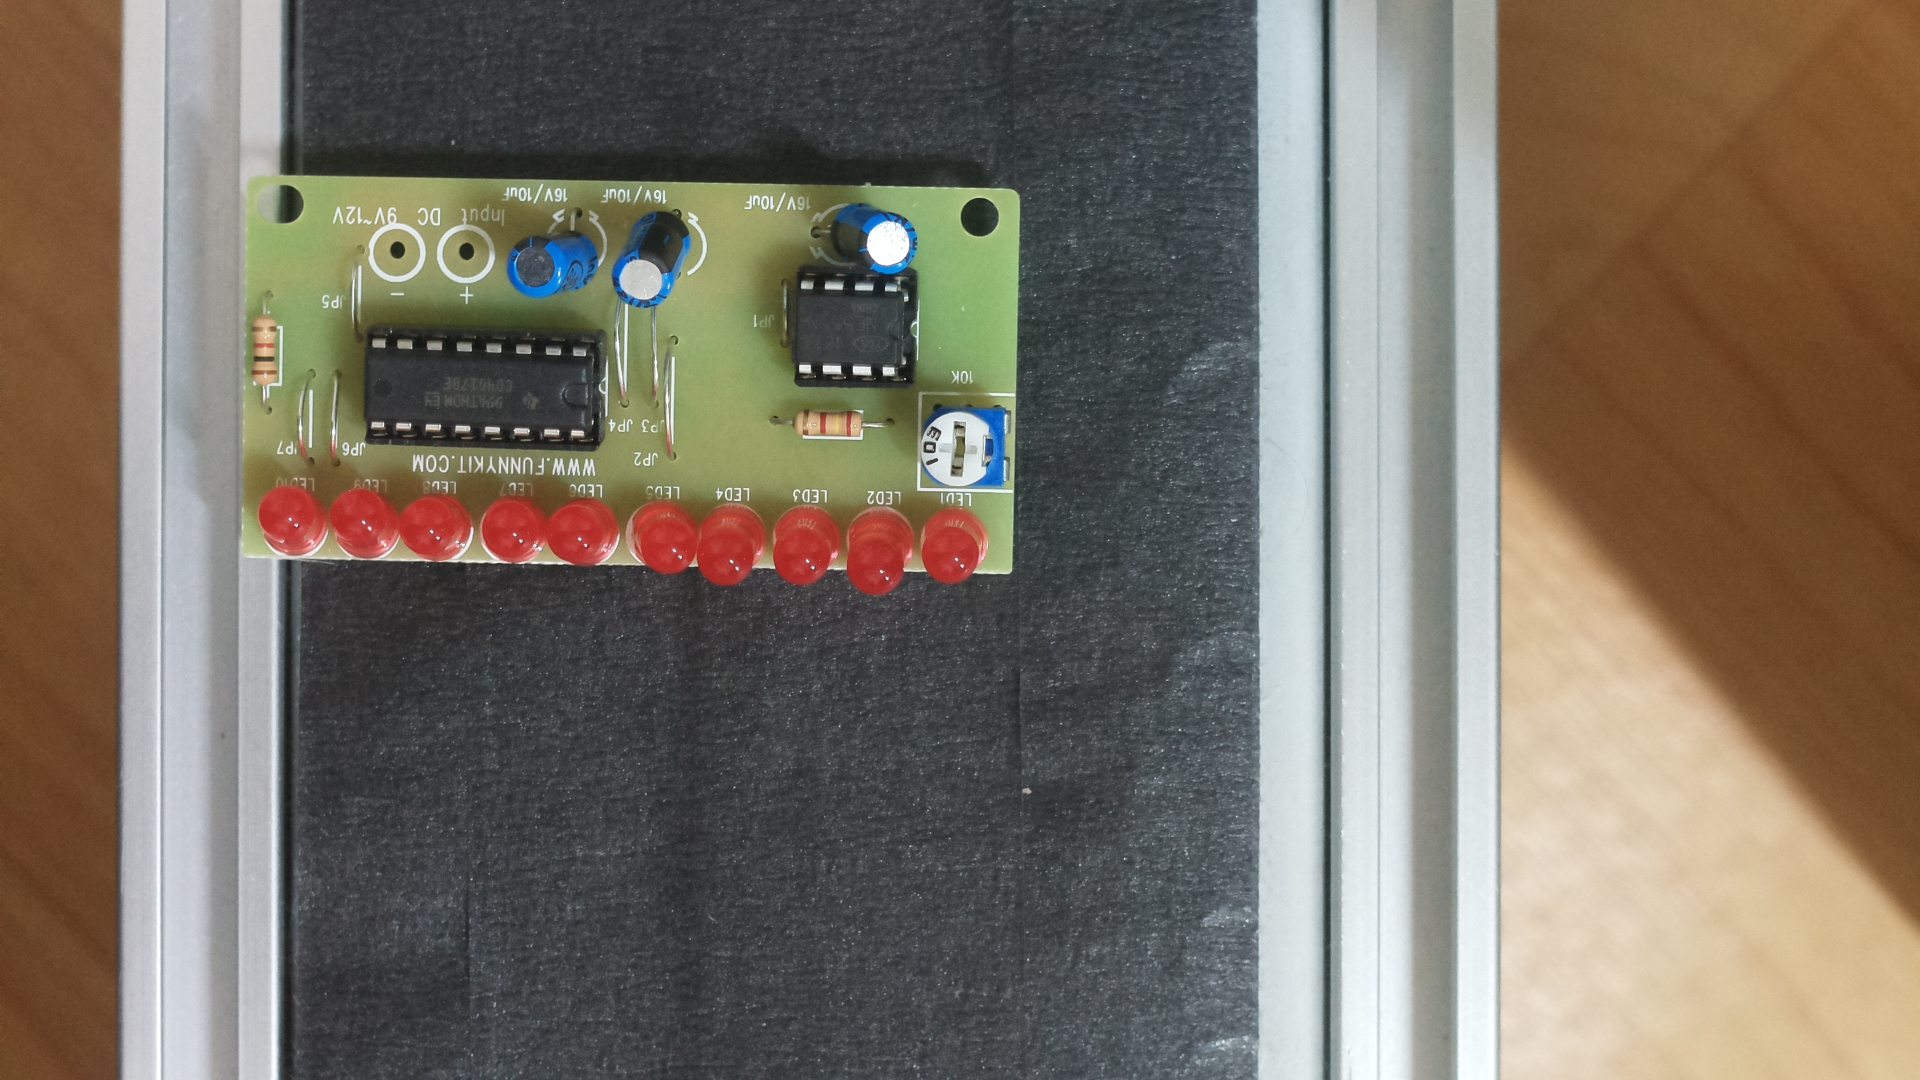B_Normal: (225, 149, 1033, 593)
